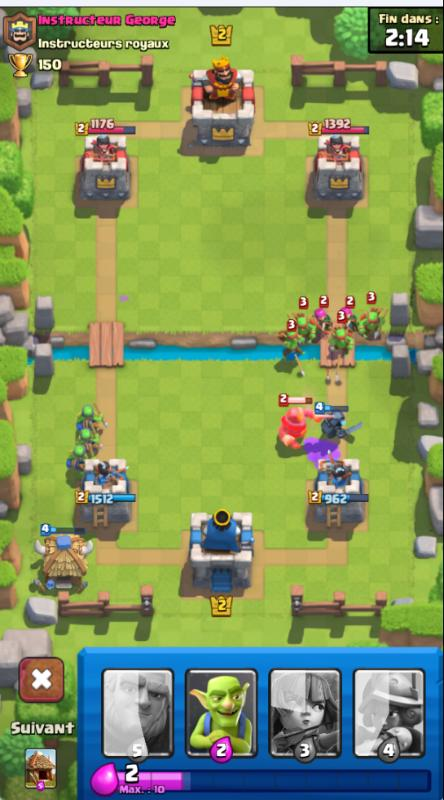archere: (311, 300, 332, 338), (338, 303, 357, 338)
chevalier: (275, 390, 316, 454)
gobelin_lances: (359, 300, 386, 351), (69, 399, 105, 432), (281, 325, 307, 370), (287, 311, 319, 347), (68, 427, 104, 454), (65, 446, 96, 476), (330, 327, 356, 359)
mini_PEKKA: (315, 394, 362, 449)
